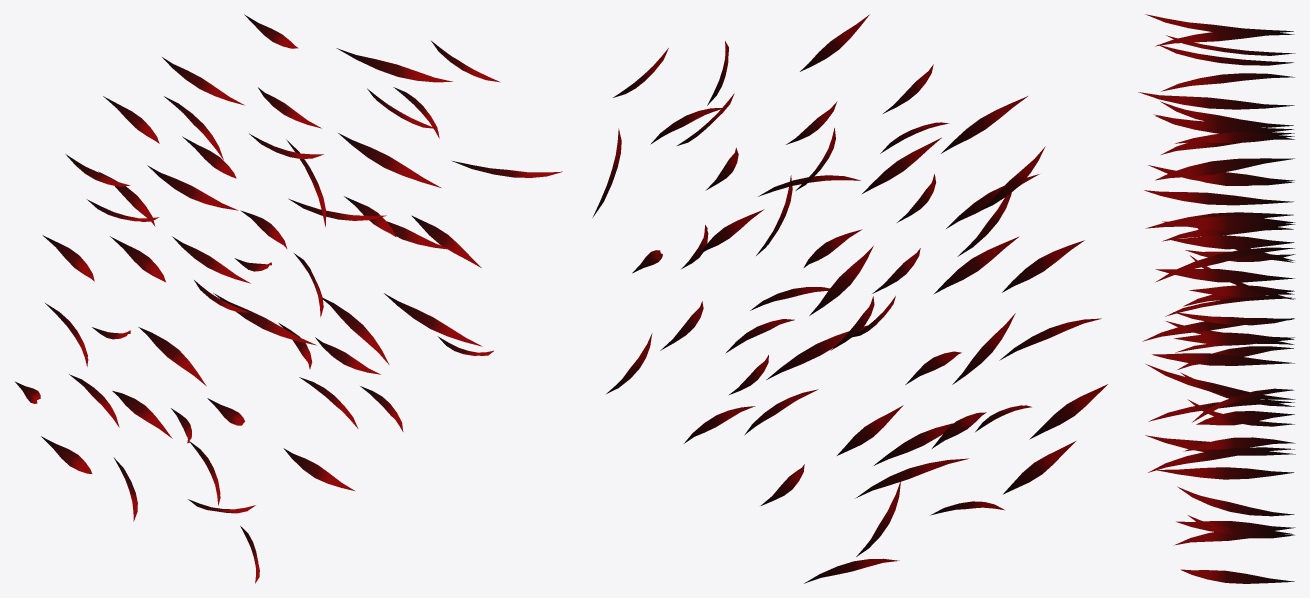
The model's file is Grass.fbx.
3 renders of one model, left to right at view 1: azimuth 30°, elevation 25°; view 2: azimuth 150°, elevation 25°; view 3: azimuth 270°, elevation 25°, orthographic. The views are drawn at different scales.
Visible parts, largest first — view 1: Grass; view 2: Grass; view 3: Grass.
Part boxes in pixels (x1,y1,x2,y2): Grass: (15,14,562,583); Grass: (592,14,1107,583); Grass: (1138,14,1295,583).
Bounding box in the file's own units: 4.56 × 4.57 × 1.19.
